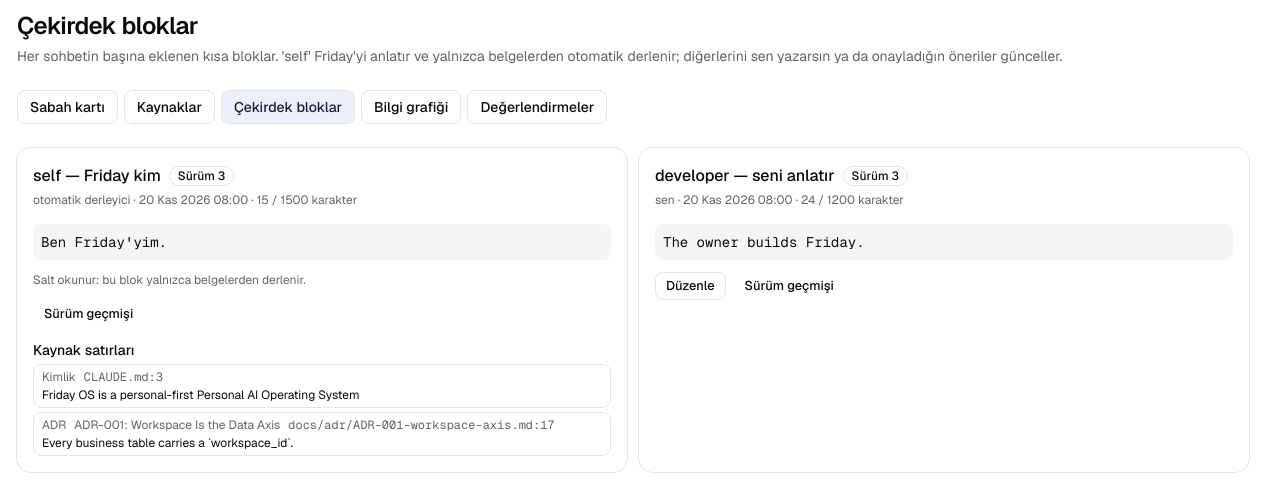
CoreBlocksView › rolls back to an older version from its confirmation
Later steps or results of the test are not shown.
What coordinates should you click on to do the following:
click the button "Sürüm geçmişi" below "The owner builds Friday."
I would click on:
 (789, 286)
Its box is top-left (734, 272), bottom-right (845, 300).
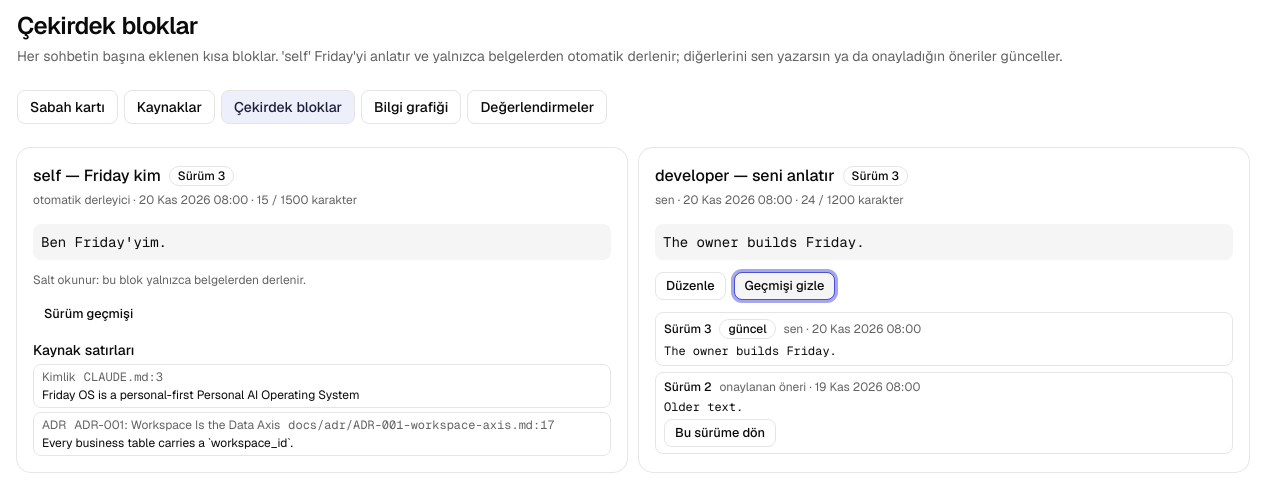
Check: the number of buttons "Bu sürüme dön" is 1, box top-left (664, 419), bottom-right (776, 447)
